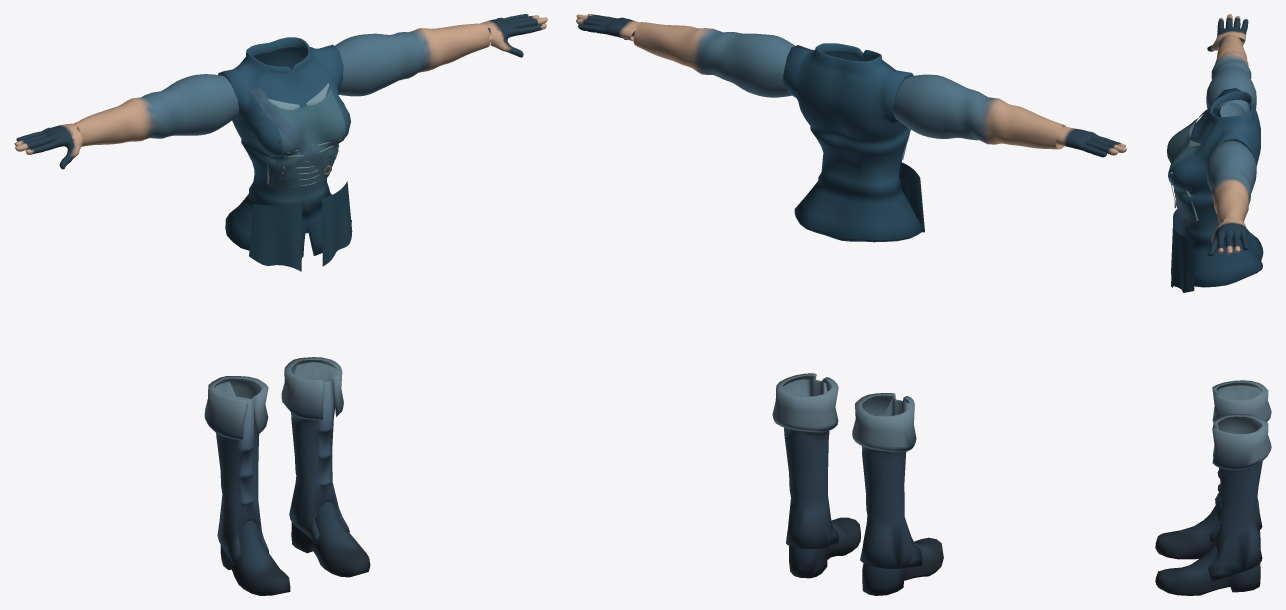
Rendered from tide-attire.glb.
The picture shows the model from 3 angles, left to right: view 1: azimuth 30°, elevation 25°; view 2: azimuth 150°, elevation 25°; view 3: azimuth 270°, elevation 25°; orthographic projection. The views are drawn at different scales.
Visible parts, largest first — view 1: Female_Peasant_Feet, Female_Peasant_Arms, Female_Peasant_Body, SM_Hero_Tide_SplitDeckCoat, SM_Hero_Tide_WovenLeatherVest, SM_Hero_Tide_FittedHarness; view 2: Female_Peasant_Feet, Female_Peasant_Body, Female_Peasant_Arms, SM_Hero_Tide_SplitDeckCoat; view 3: Female_Peasant_Feet, Female_Peasant_Body, Female_Peasant_Arms, SM_Hero_Tide_SplitDeckCoat, SM_Hero_Tide_WovenLeatherVest, SM_Hero_Tide_FittedHarness.
Boxes of the visible parts, left/top/right/bottom form: Female_Peasant_Feet: left=204, top=357, right=370, bottom=595; Female_Peasant_Arms: left=14, top=14, right=547, bottom=169; Female_Peasant_Body: left=218, top=37, right=351, bottom=257; SM_Hero_Tide_SplitDeckCoat: left=249, top=181, right=352, bottom=271; SM_Hero_Tide_WovenLeatherVest: left=268, top=88, right=345, bottom=188; SM_Hero_Tide_FittedHarness: left=250, top=88, right=331, bottom=176; Female_Peasant_Feet: left=772, top=373, right=943, bottom=595; Female_Peasant_Body: left=783, top=43, right=924, bottom=242; Female_Peasant_Arms: left=576, top=14, right=1126, bottom=157; SM_Hero_Tide_SplitDeckCoat: left=821, top=154, right=924, bottom=232; Female_Peasant_Feet: left=1155, top=380, right=1271, bottom=595; Female_Peasant_Body: left=1169, top=88, right=1263, bottom=287; Female_Peasant_Arms: left=1206, top=14, right=1256, bottom=256; SM_Hero_Tide_SplitDeckCoat: left=1171, top=209, right=1194, bottom=292; SM_Hero_Tide_WovenLeatherVest: left=1168, top=124, right=1197, bottom=224; SM_Hero_Tide_FittedHarness: left=1167, top=108, right=1209, bottom=213.
Bounding box in the file's own units: 1.66 × 1.52 × 0.3439.
